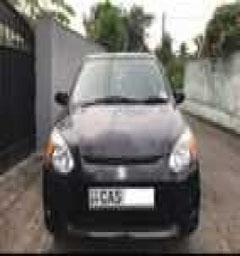car: (41, 46, 220, 250)
